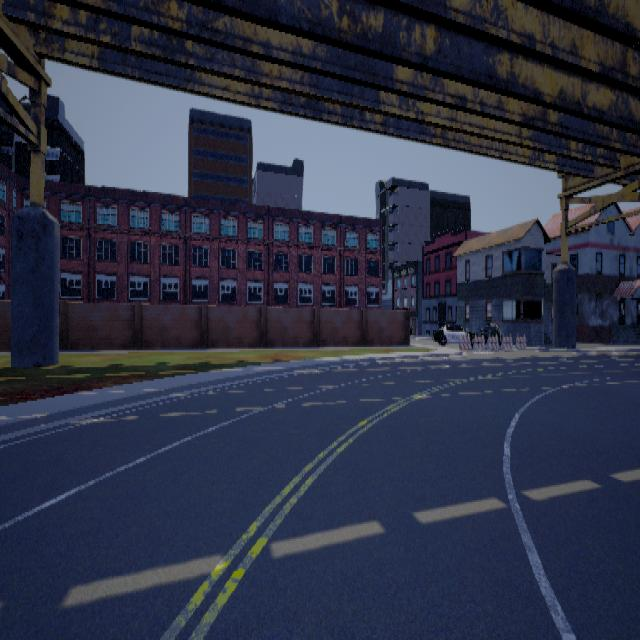vehicle: (431, 322, 474, 347)
